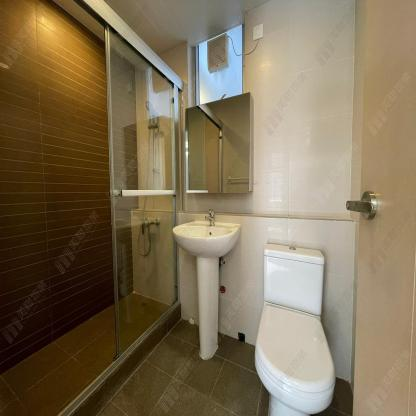Exhaust Fan: (208, 32, 228, 72)
Toilet: (253, 242, 333, 413)
Toilet Sink: (172, 217, 241, 256)
Water Cubicle: (0, 2, 184, 414)
